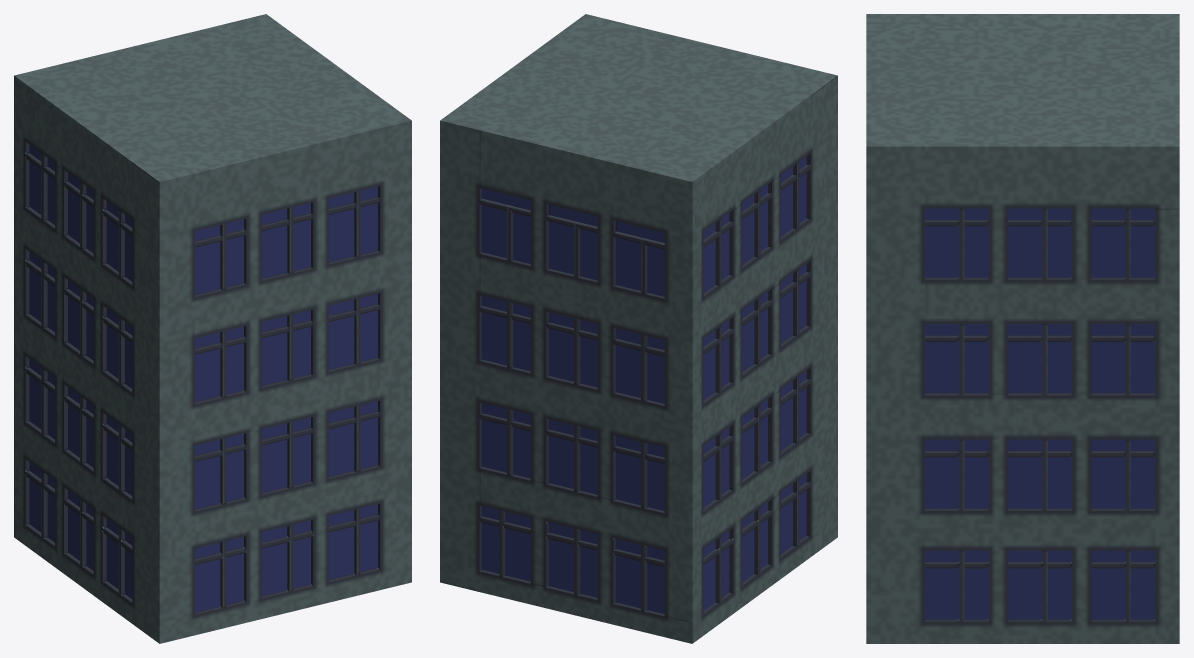
File: b_uni5_med.dae
The picture shows the model from 3 angles, left to right: view 1: azimuth 30°, elevation 25°; view 2: azimuth 150°, elevation 25°; view 3: azimuth 270°, elevation 25°; orthographic projection. The views are drawn at different scales.
Parts seen in each view (by area): view 1: Content; view 2: Content; view 3: Content.
Part boxes in pixels (box(x1,y1,x2,y2)): Content: box(14, 14, 411, 643); Content: box(440, 14, 837, 643); Content: box(866, 14, 1179, 643).
Size of the model in its own units: 64 by 112 by 64.
1 material, 1 textured.
